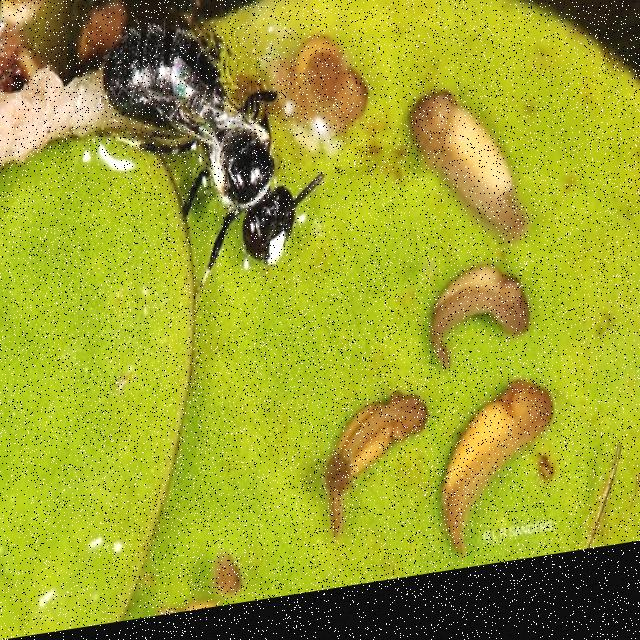Braunsapis: (91, 0, 346, 333)
